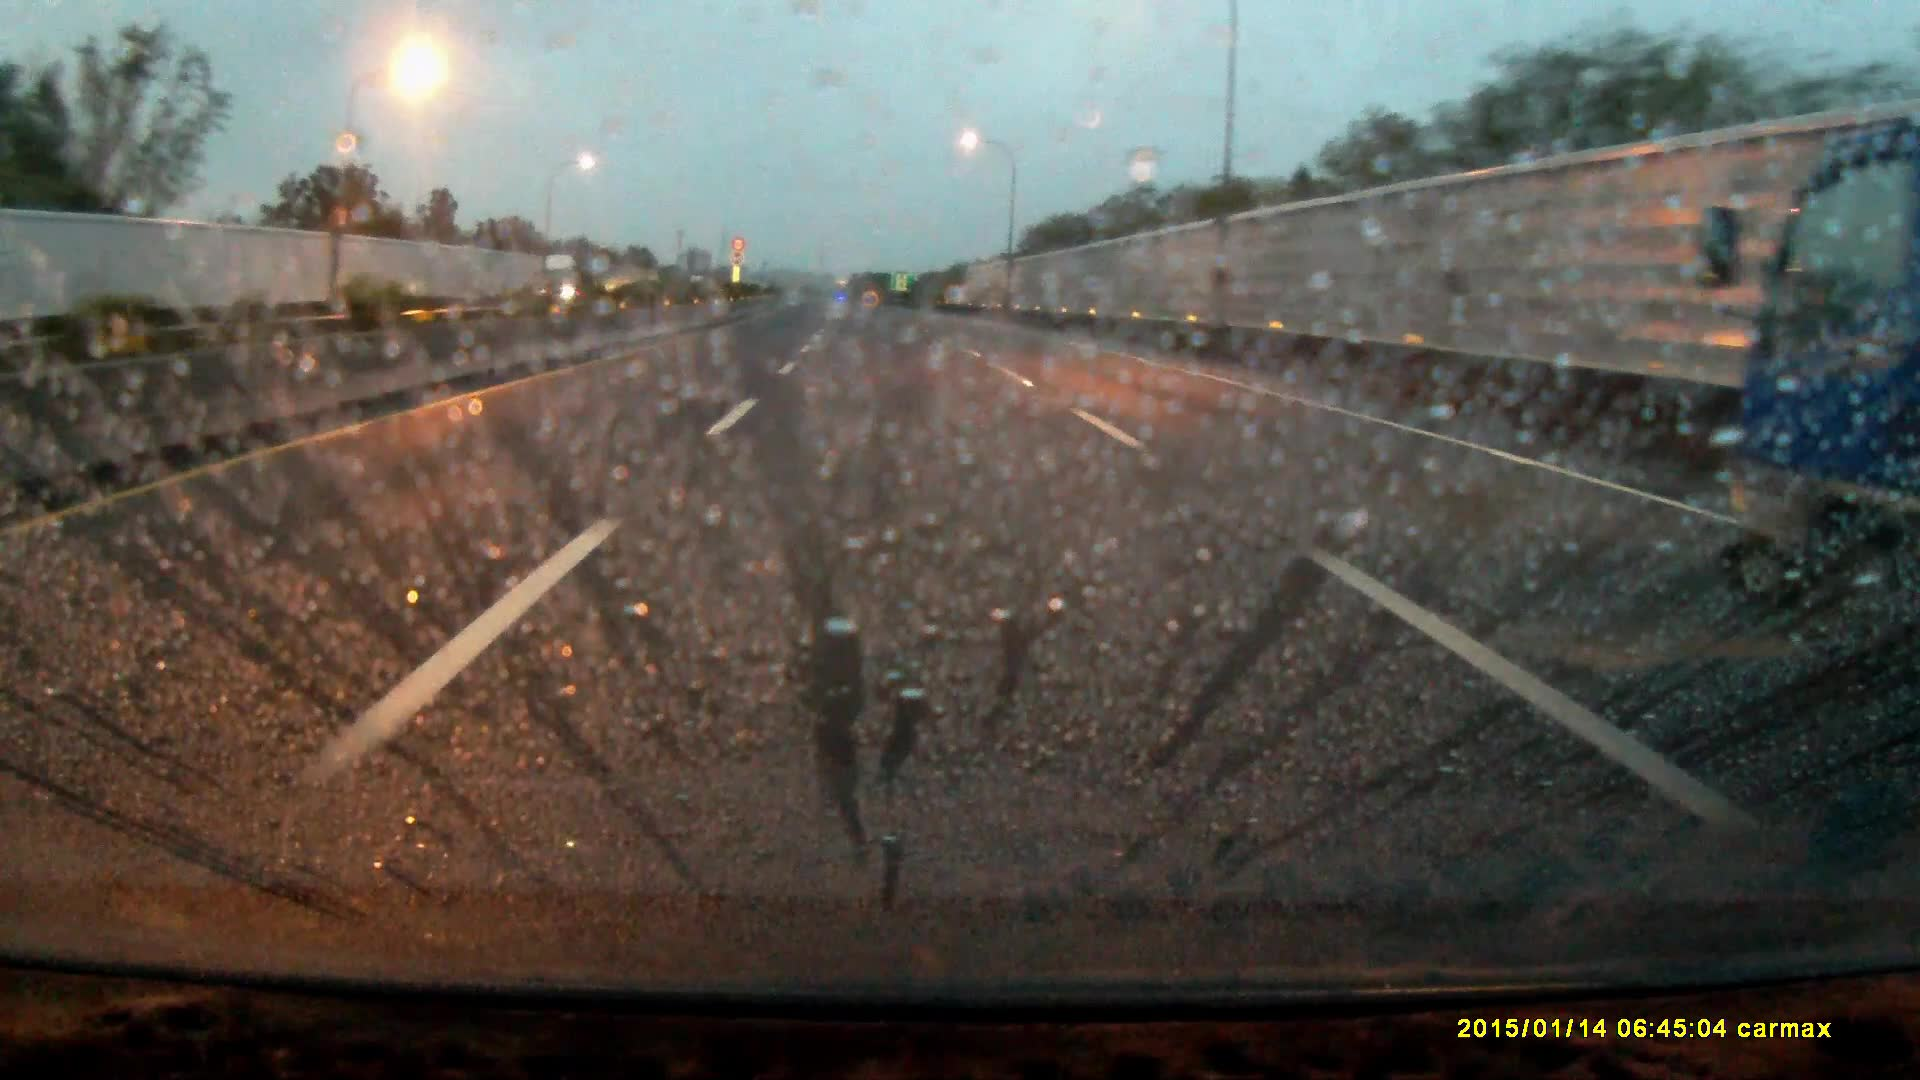vehicle: (537, 260, 591, 311)
